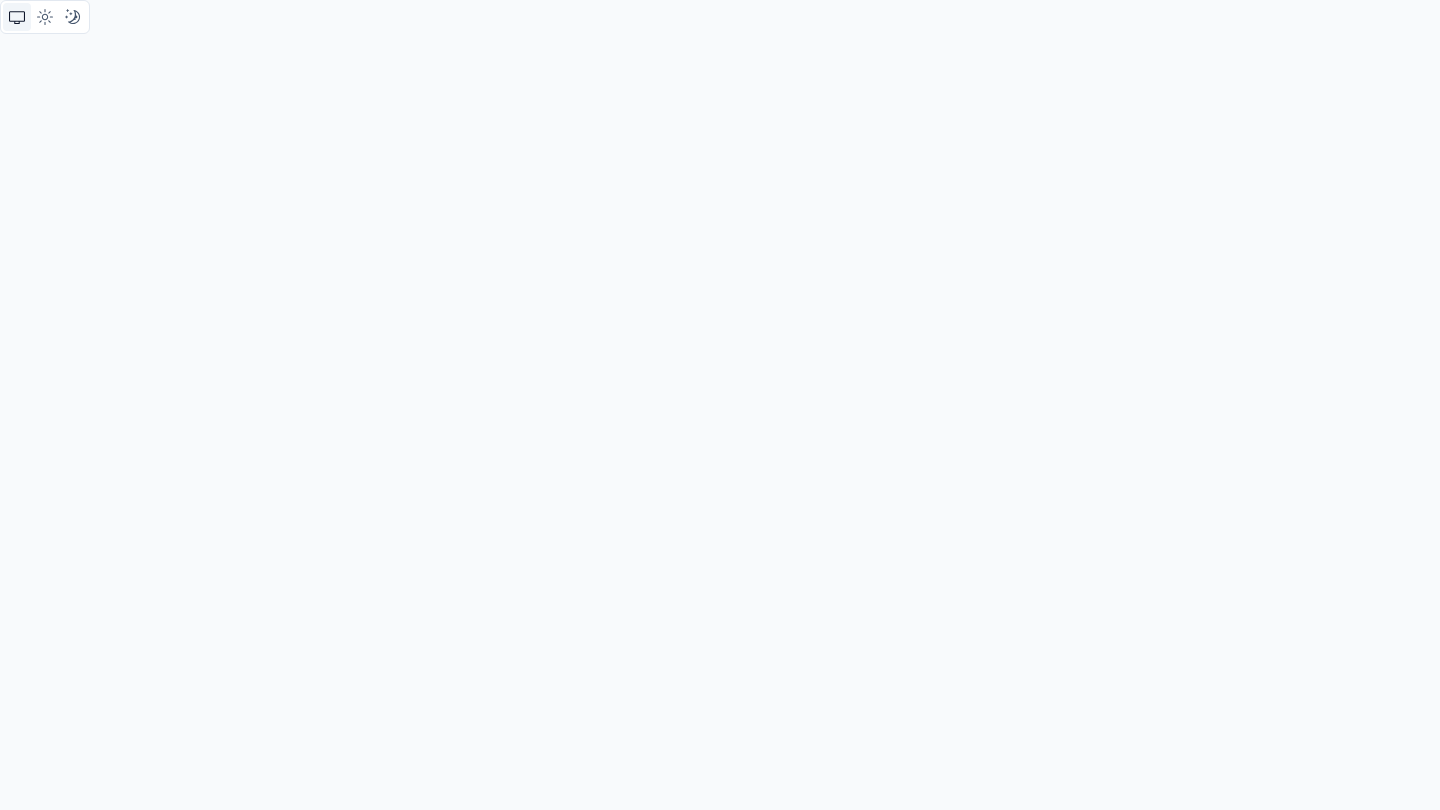
Test: ThemeSwitcher › switches to dark and stores the choice
Click the button named "Dark theme" at (73, 17), box x1=59 y1=3 x2=87 y2=31
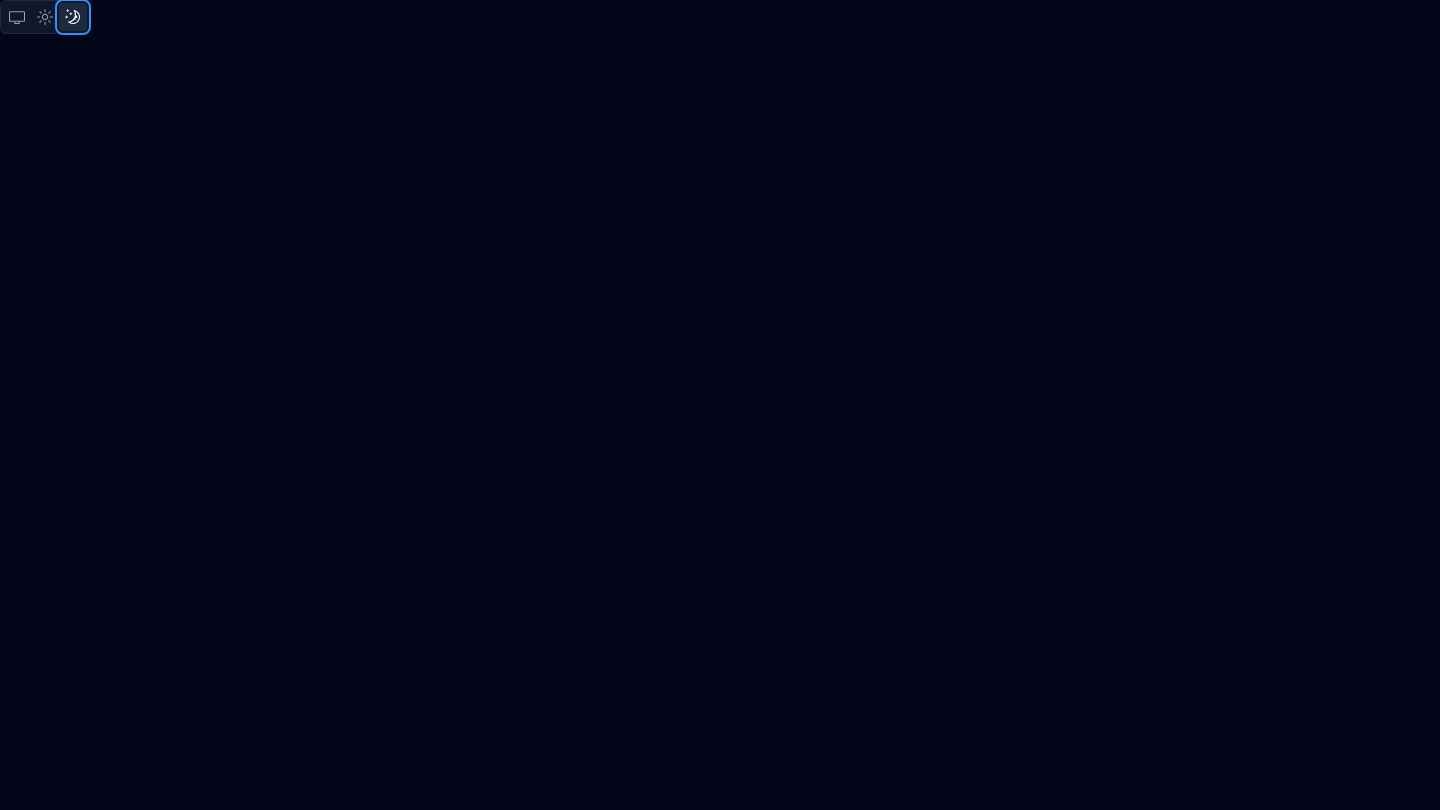
Expected: the button named "Dark theme" is pressed, x1=59 y1=3 x2=87 y2=31
Expected: the button named "System theme" is not pressed, x1=3 y1=3 x2=31 y2=31
